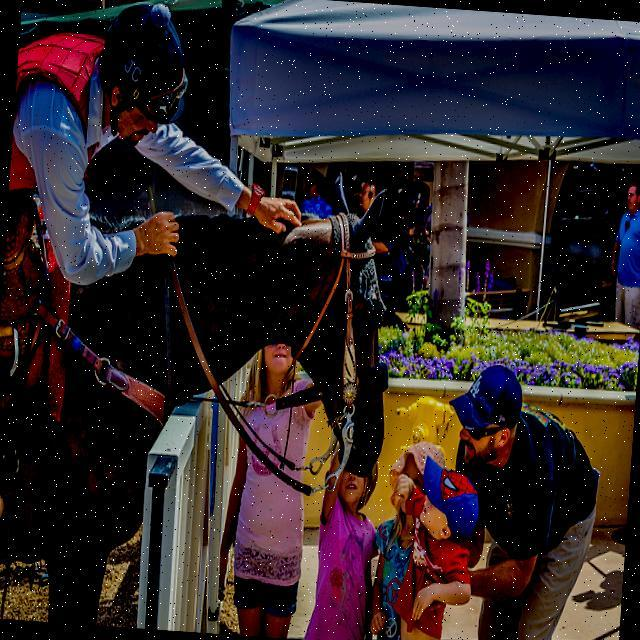fire_hydrant: (392, 391, 455, 459)
